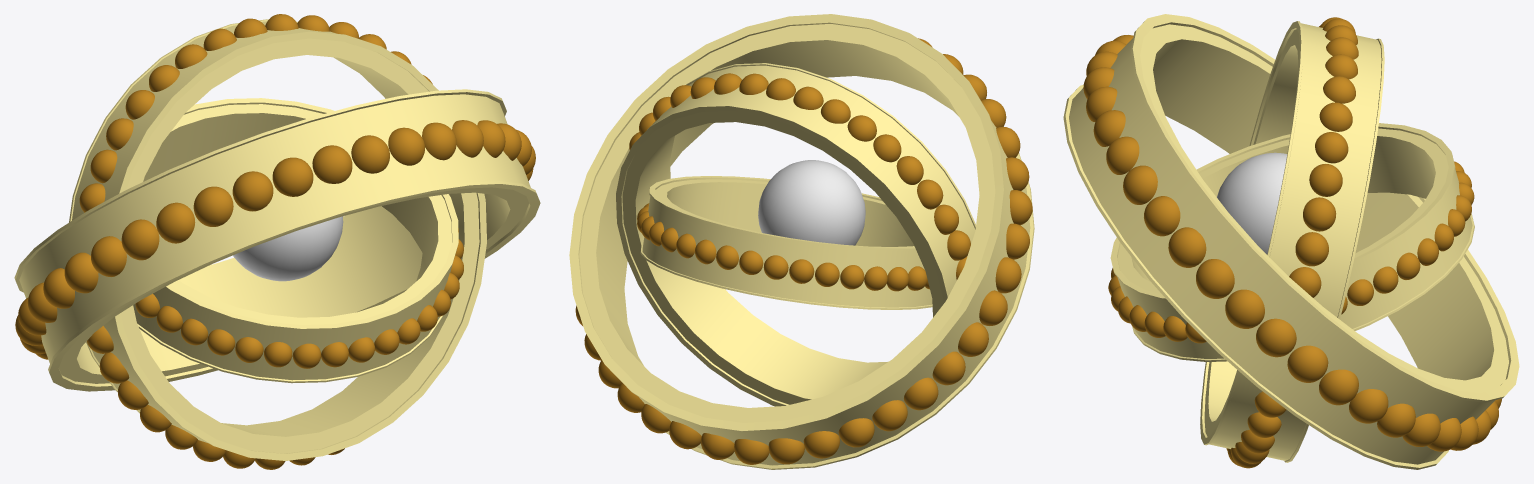
Rendered from jefe_anillo.fbx.
3 views of the same model, side by side, from view 1: azimuth 30°, elevation 25°; view 2: azimuth 150°, elevation 25°; view 3: azimuth 270°, elevation 25° (orthographic). The views are drawn at different scales.
Visible parts, largest first — view 1: Cylinder.002, Cylinder.001, Cylinder, Sphere.003; view 2: Cylinder.002, Cylinder.001, Cylinder, Sphere.003; view 3: Cylinder.002, Cylinder.001, Cylinder, Sphere.003.
Part boxes in pixels (box(x1,y1,x2,y2)): Cylinder.002: box(14, 89, 540, 391); Cylinder.001: box(69, 14, 486, 469); Cylinder: box(133, 98, 463, 383); Sphere.003: box(233, 216, 343, 281); Cylinder.002: box(569, 14, 1034, 469); Cylinder.001: box(616, 63, 975, 406); Cylinder: box(637, 176, 932, 309); Sphere.003: box(758, 160, 865, 245); Cylinder.002: box(1063, 14, 1519, 469); Cylinder.001: box(1200, 17, 1384, 468); Cylinder: box(1108, 123, 1474, 361); Sphere.003: box(1217, 152, 1287, 254).
Bounding box in the file's own units: 407 × 334 × 339.
